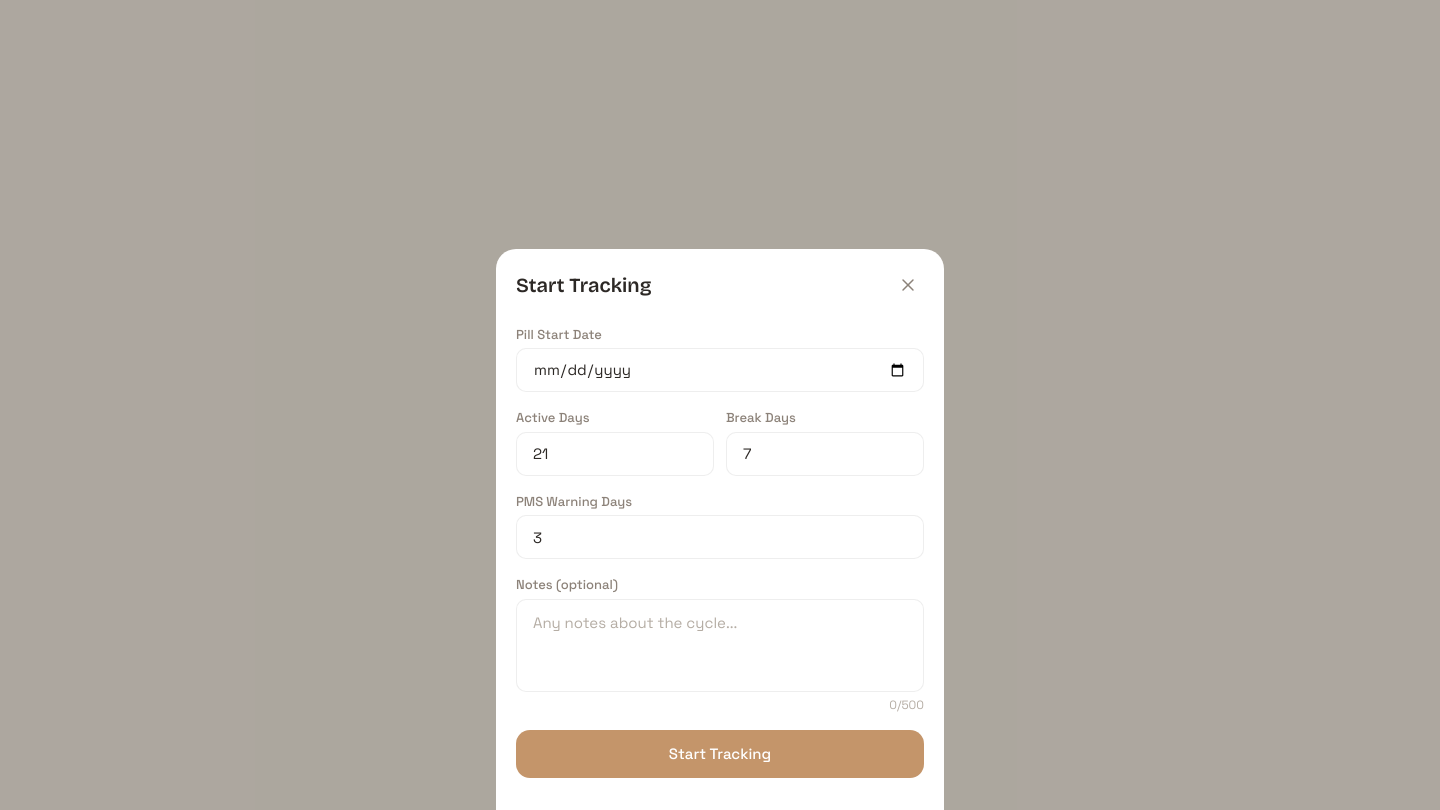
CycleConfigForm › validates start date is required
What coordinates should you click on to do the following:
click the button with test id "cycle-config-submit"
I would click on:
 (720, 754)
Its box is [516, 730, 924, 778].
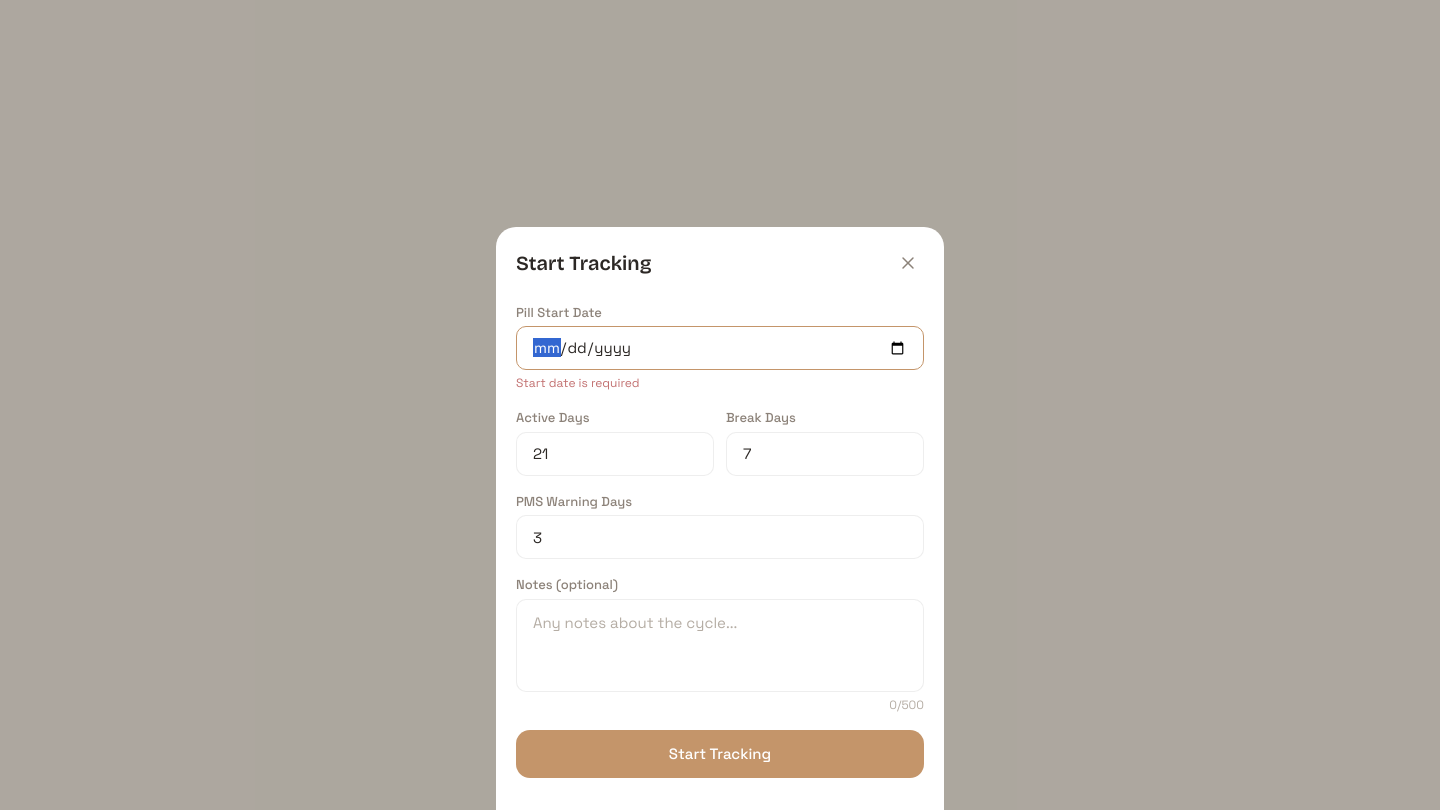
Result: the text "Start date is required" is shown at [516, 375, 640, 391]
